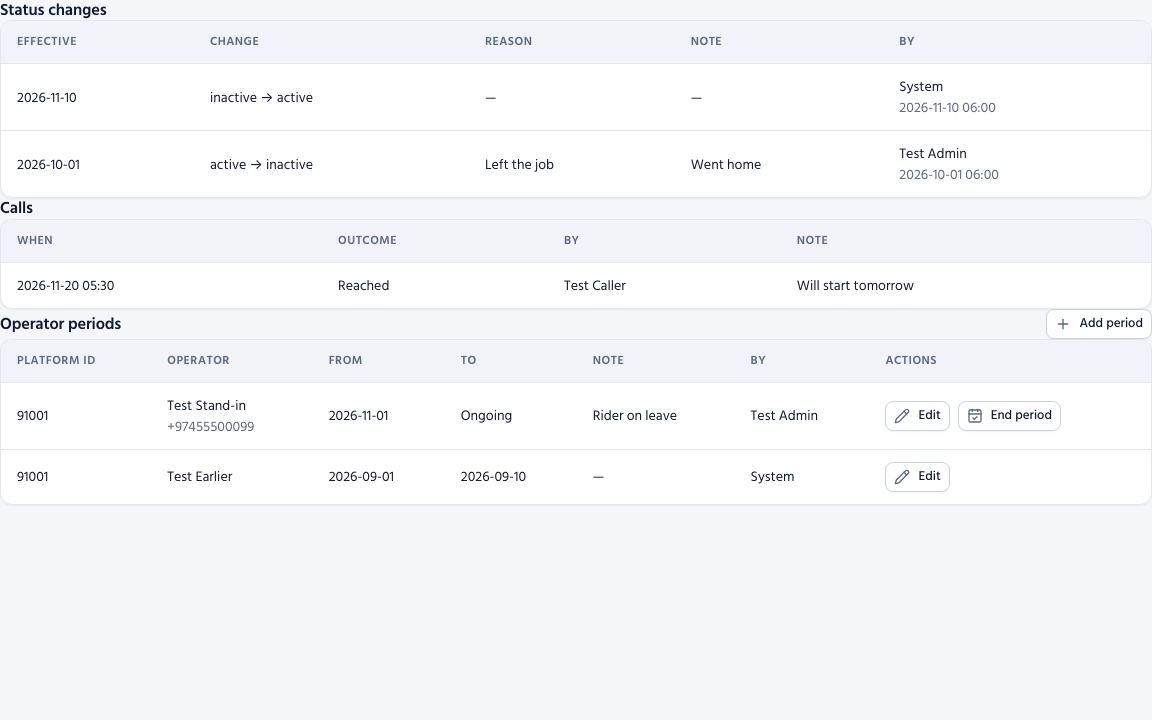
Scenario: Tracking tab (row 4.8b) › adds a period, and shows the server message when it overlaps another
Expected: the text "Test Stand-in" is shown, [167, 394, 246, 417]
Click the button "Add period" at (1099, 324), box [1046, 309, 1151, 339]
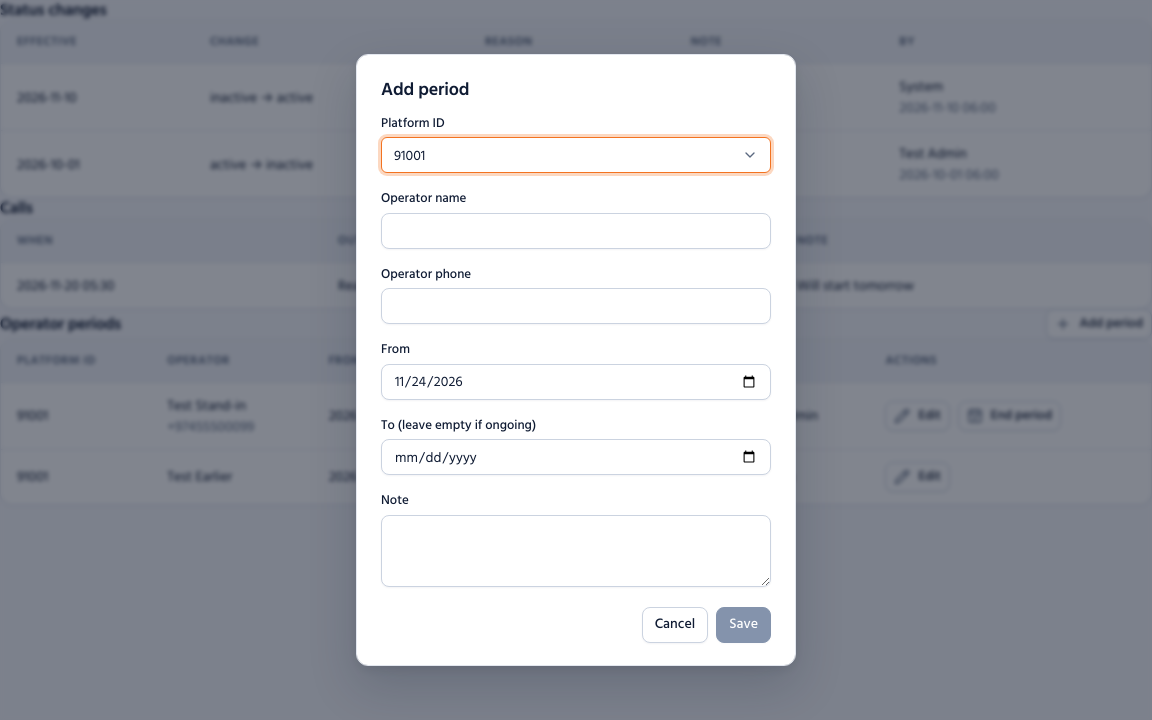
Expected: the button "Save" is disabled, [716, 606, 771, 642]
Type "Test Cover" into the field labelled "Operator name" at (576, 230), box [381, 212, 771, 248]
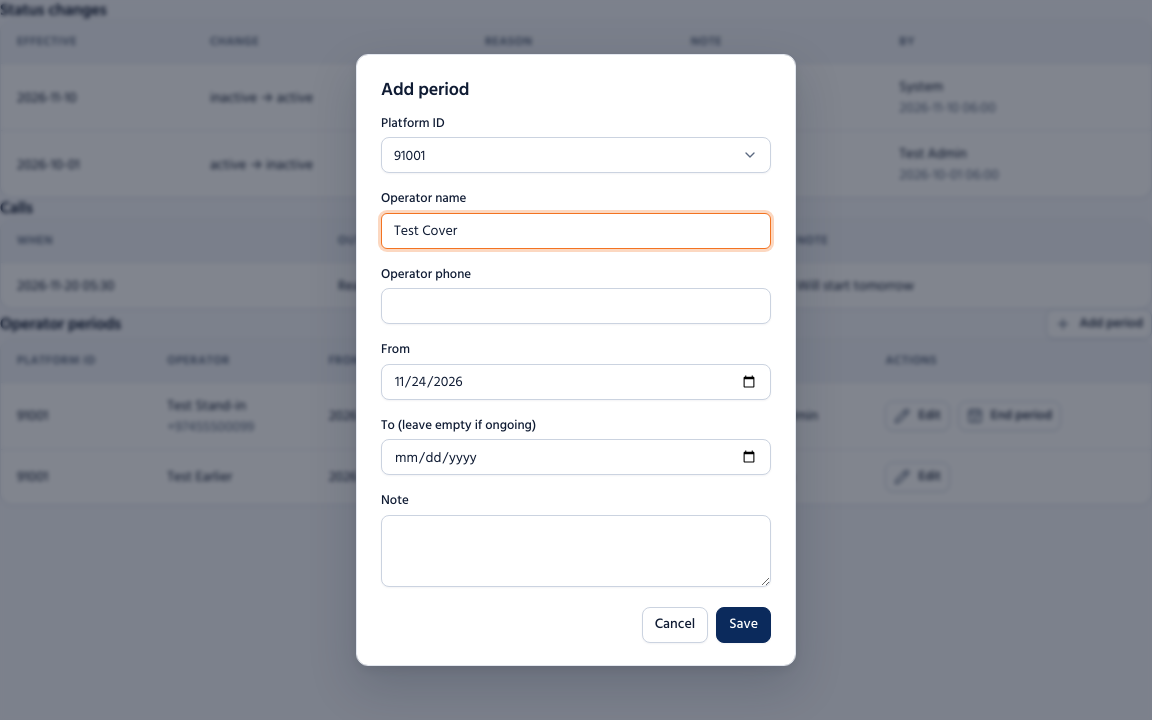
Type "Overlapping cover" into the text box labelled "Note" at (576, 550), box [381, 514, 771, 586]
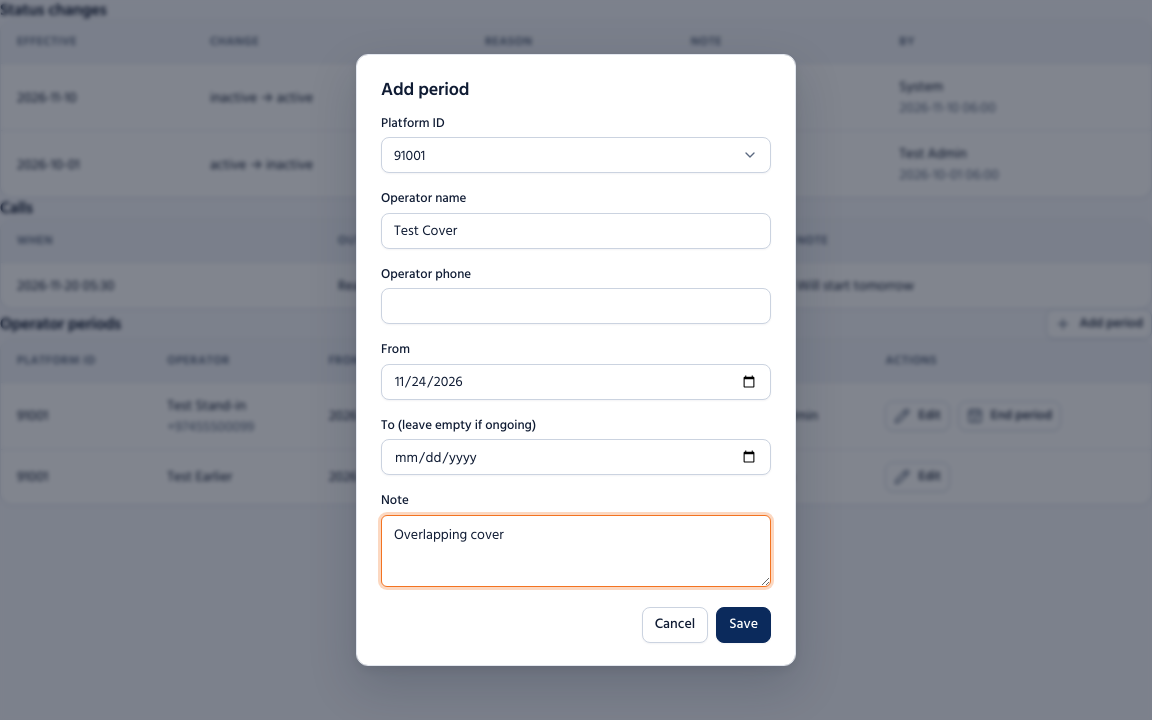
Click the button "Save" at (744, 624), box [716, 606, 771, 642]
(page scrolled)
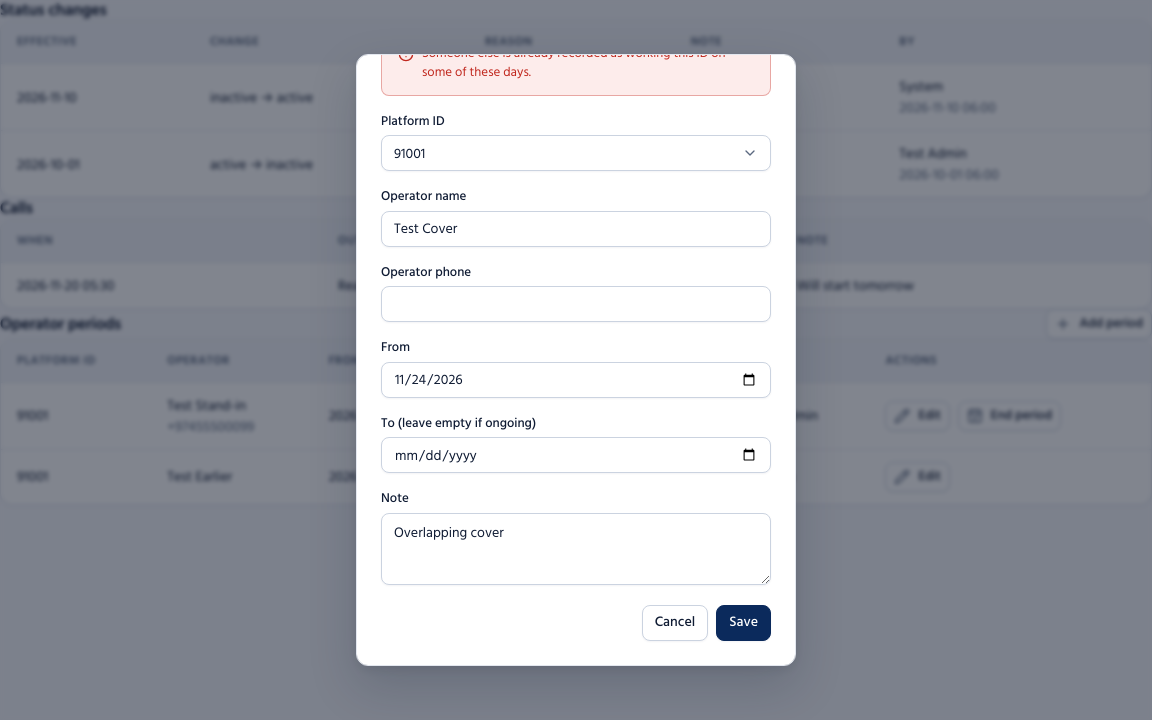
Expected: the text "Saved." is not shown
Expected: the message reads "Someone else is already recorded as working this ID on some of these days.", [422, 54, 726, 83]
Click the button "Save" at (744, 622), box [716, 604, 771, 640]
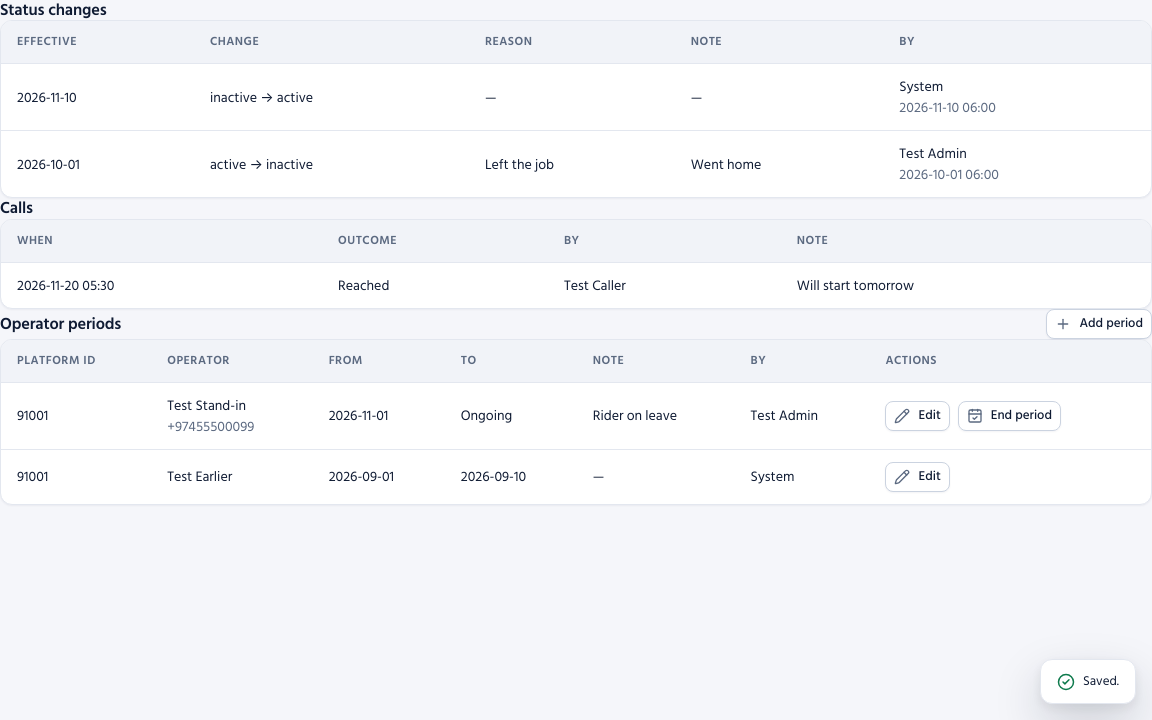
Expected: the text "Saved." is shown, [1083, 672, 1119, 691]
